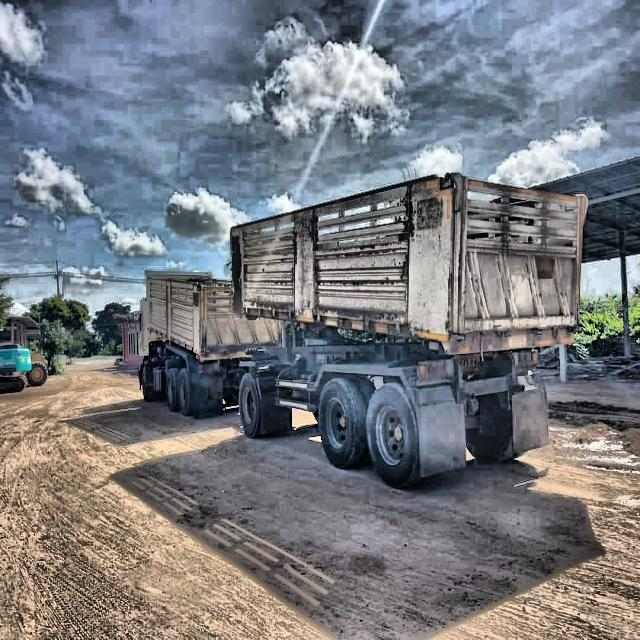trailer: (119, 160, 597, 500)
